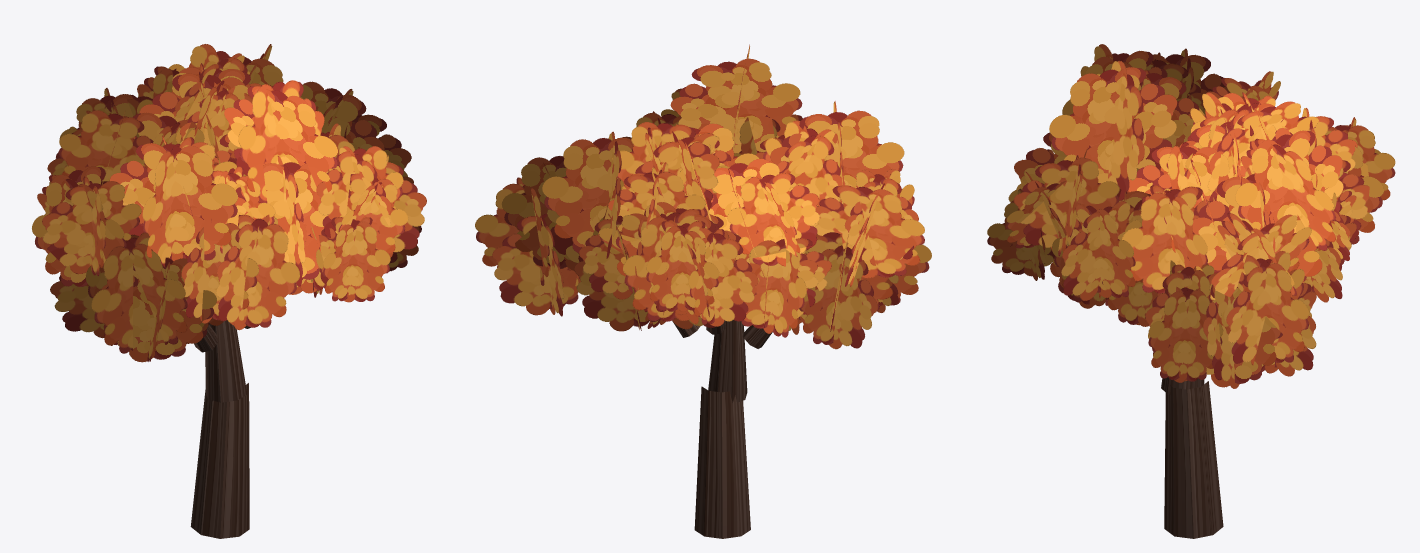
File: anime_tree_maple.glb
The picture shows the model from 3 angles, left to right: view 1: azimuth 30°, elevation 25°; view 2: azimuth 150°, elevation 25°; view 3: azimuth 270°, elevation 25°; orthographic projection. The views are drawn at different scales.
Visible parts, largest first — view 1: anime_tree_maple; view 2: anime_tree_maple; view 3: anime_tree_maple.
Part boxes in pixels (x1,y1,x2,y2): anime_tree_maple: (32, 44, 426, 538); anime_tree_maple: (475, 44, 931, 538); anime_tree_maple: (987, 44, 1395, 538).
Size of the model in its own units: 6.05 by 6.42 by 5.11.
2 materials, 2 textured.
